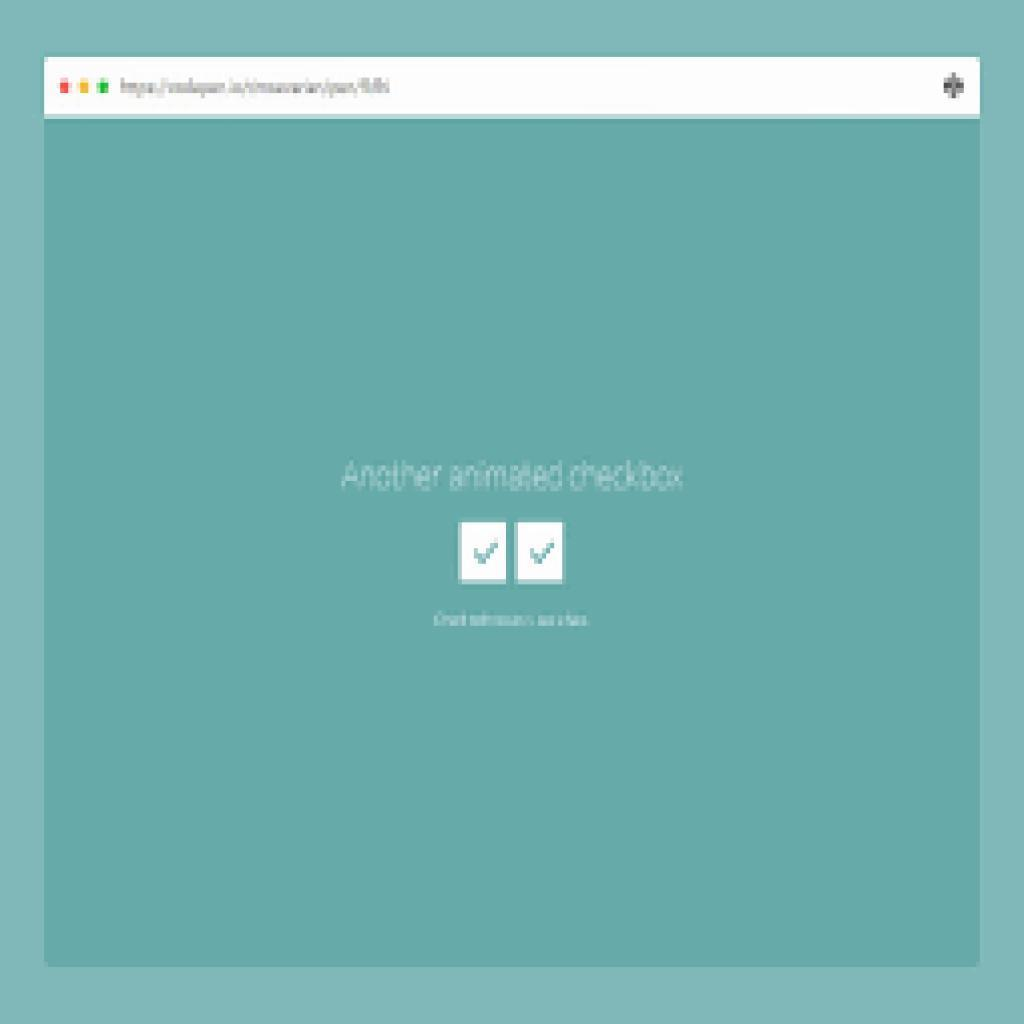checkbox: (515, 517, 567, 584), (459, 517, 507, 584)
